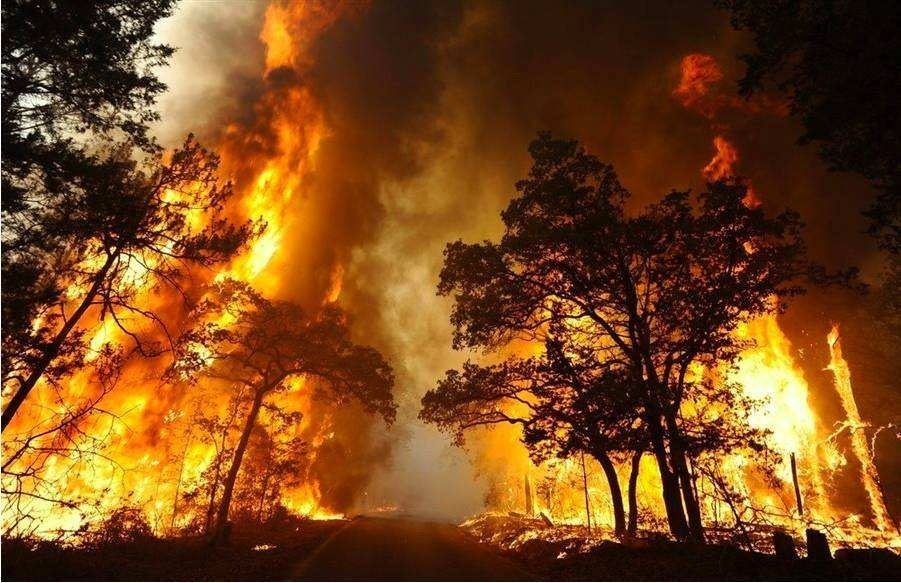fire: (13, 17, 356, 551), (467, 122, 879, 558)
